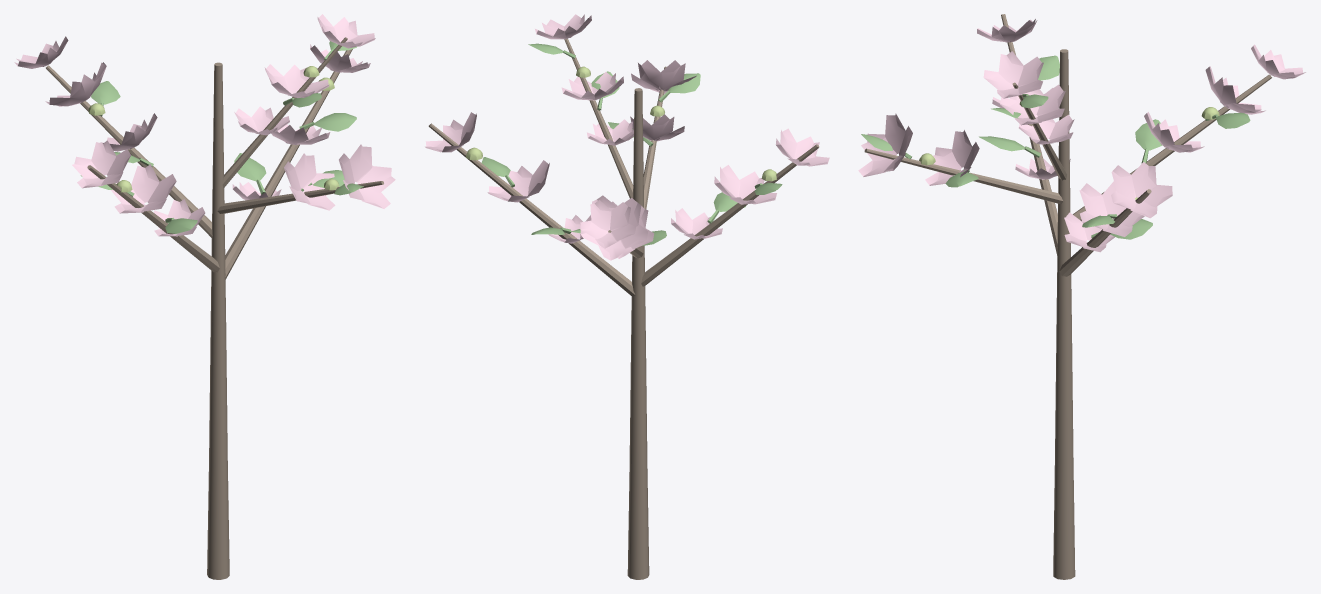
The model's file is plum.glb.
3 renders of one model, left to right at view 1: azimuth 30°, elevation 25°; view 2: azimuth 150°, elevation 25°; view 3: azimuth 270°, elevation 25°, orthographic. The views are drawn at different scales.
Parts seen in each view (by area): view 1: flower, stem, foliage, fruit; view 2: flower, stem, foliage, fruit; view 3: flower, stem, foliage.
Part boxes in pixels (x1=…): flower: x1=14, y1=14, x2=395, y2=236; stem: x1=46, y1=37, x2=383, y2=579; foliage: x1=80, y1=41, x2=363, y2=233; fruit: x1=88, y1=66, x2=339, y2=192; flower: x1=425, y1=14, x2=829, y2=260; stem: x1=428, y1=31, x2=819, y2=579; foliage: x1=481, y1=43, x2=782, y2=245; fruit: x1=465, y1=66, x2=776, y2=181; flower: x1=858, y1=19, x2=1305, y2=252; stem: x1=864, y1=14, x2=1271, y2=579; foliage: x1=861, y1=55, x2=1250, y2=239.
Size of the model in its own units: 0.6897 by 1.02 by 0.7373.
